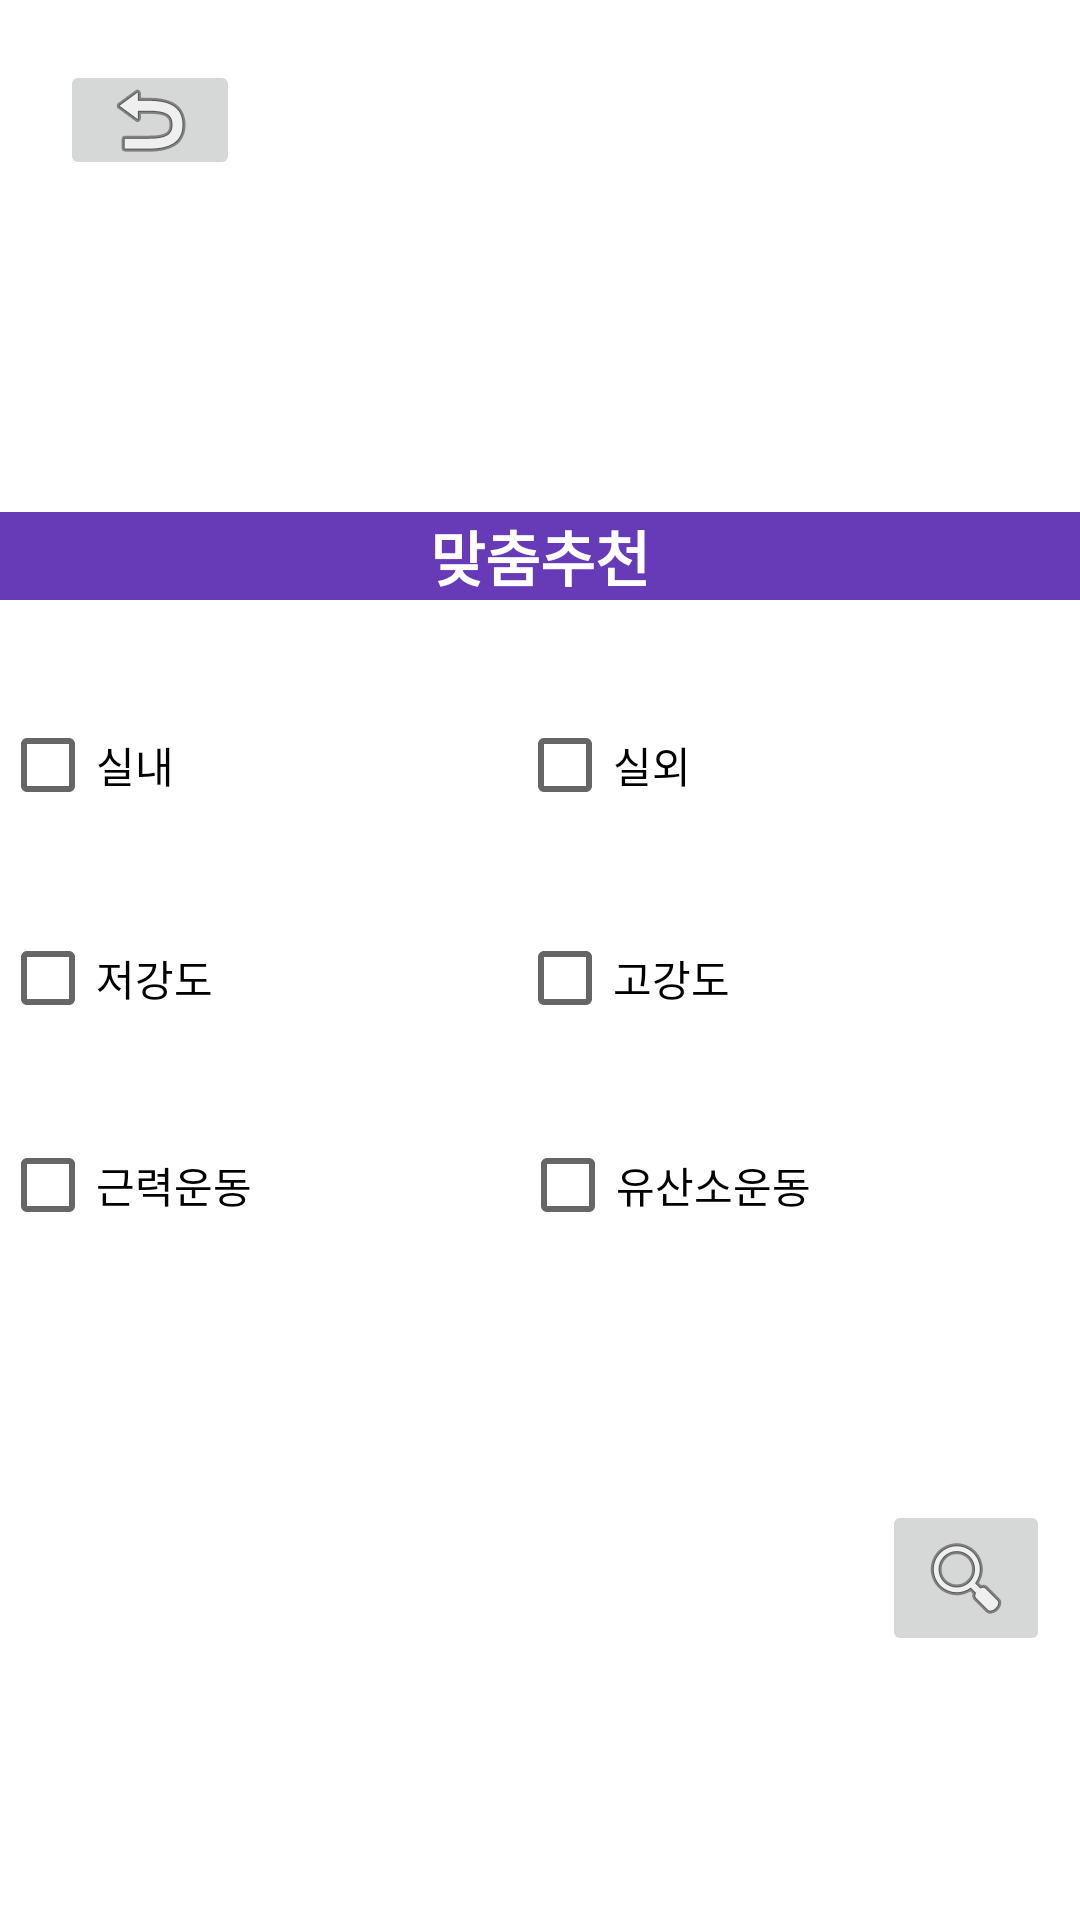

Named icons in this screenshot (1080px x 1920px) and their centers, point (x, y):
revert: point (150, 120)
search: point (966, 1578)
